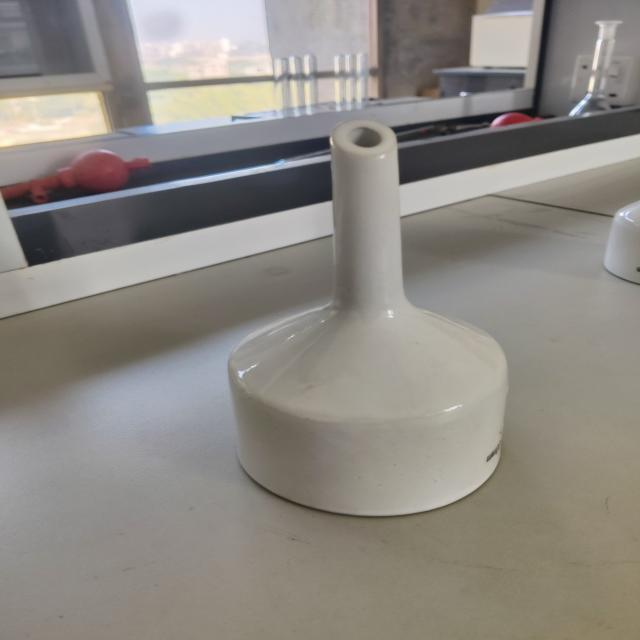Buchner_Funnel: (205, 109, 540, 537)
